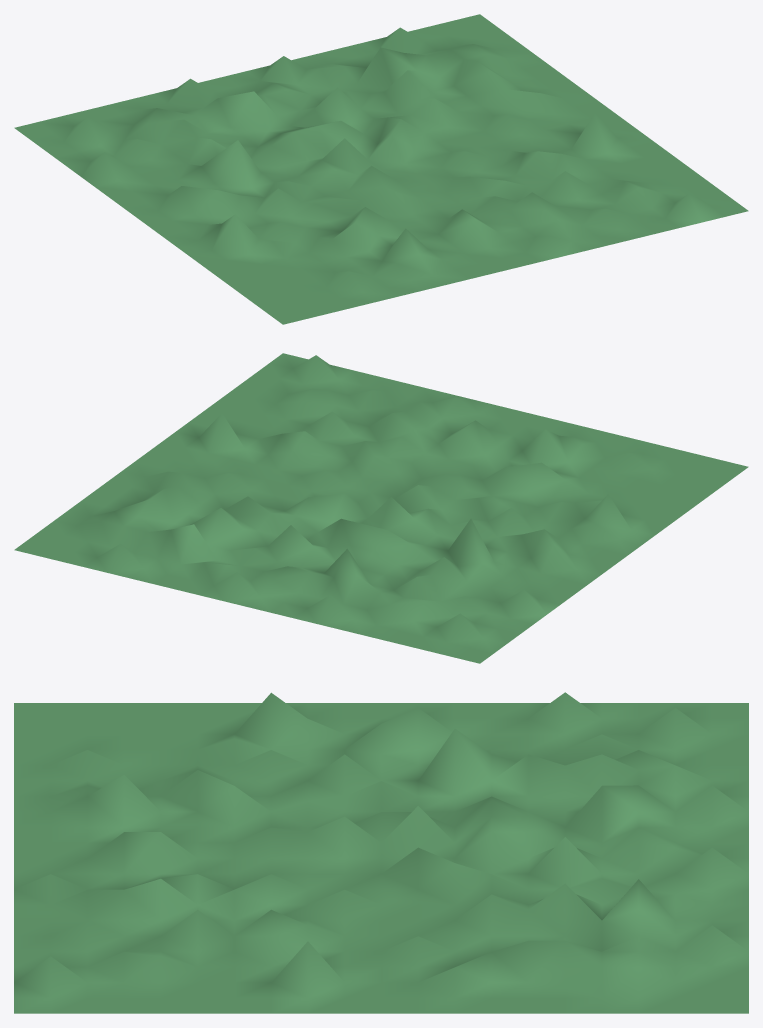
File: ground2.fbx
The picture shows the model from 3 angles, top to bottom: view 1: azimuth 30°, elevation 25°; view 2: azimuth 150°, elevation 25°; view 3: azimuth 270°, elevation 25°; orthographic projection. The views are drawn at different scales.
Visible parts, largest first — view 1: pPlane1; view 2: pPlane1; view 3: pPlane1.
Boxes of the visible parts, x1,y1,x2,y2 form: pPlane1: (14,14,748,324); pPlane1: (14,353,748,663); pPlane1: (14,692,748,1013).
Size of the model in its own units: 50 by 3.93 by 50.
